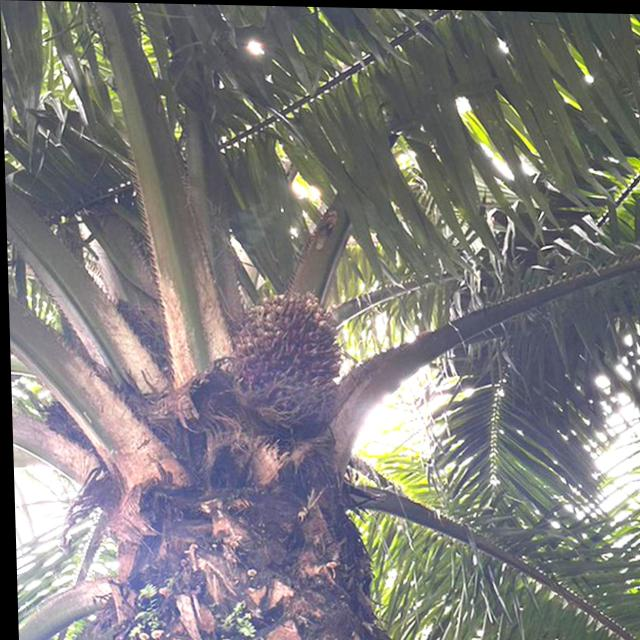ripe: (230, 281, 346, 417)
